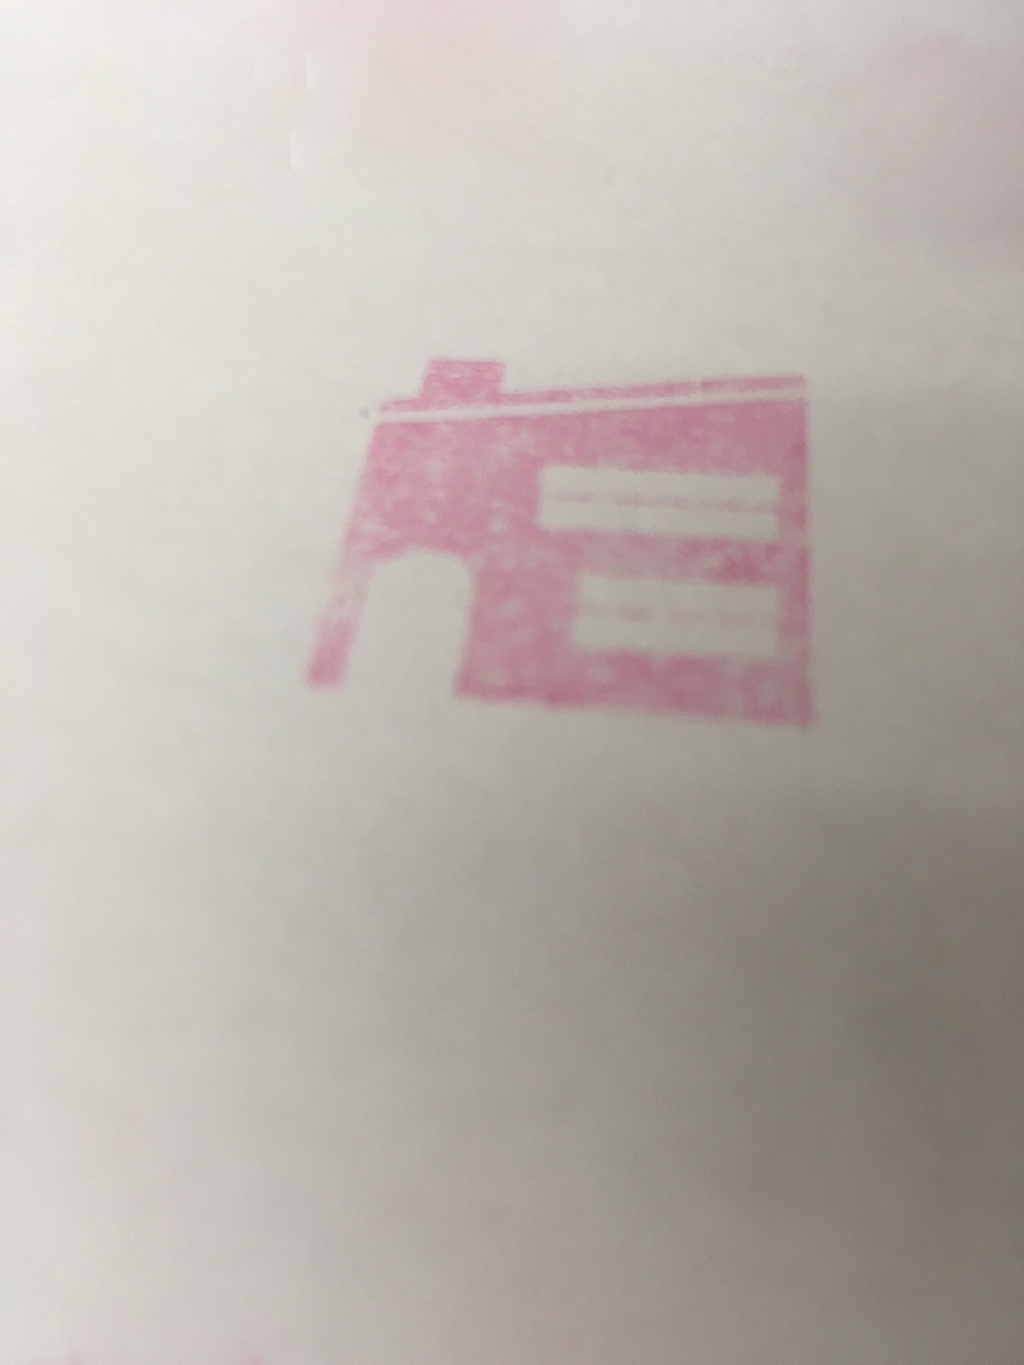house: (305, 338, 843, 747)
